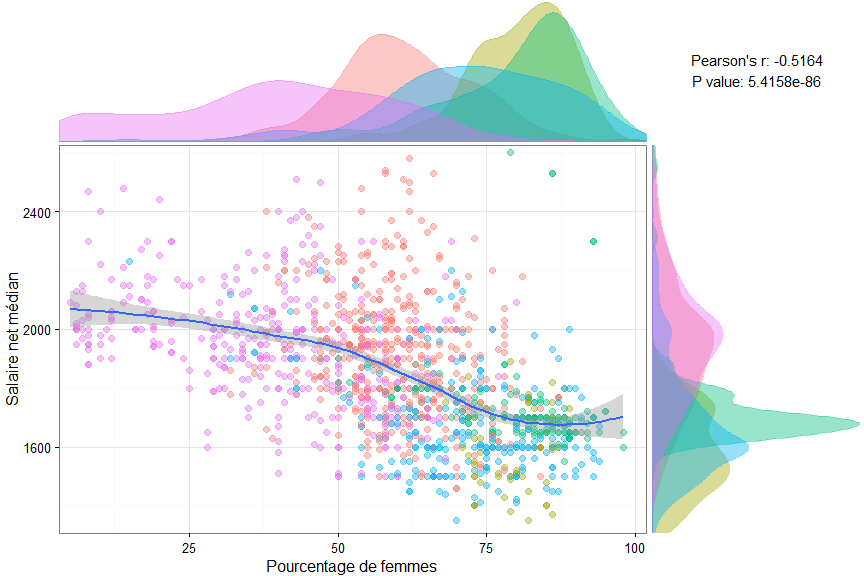

The page's visual inventory and layout, read from the dashboard file:
{"tool":"tableau","page":{"name":"Nuage de points et densité marginale","canvas":[1000,1000],"units":"permille","ordinal":0},"visuals":[{"type":"worksheet","title":"Densité X","mark":"Automatic","box":[0,0,762.9,277.8]},{"type":"blank","box":[762.9,0,157.5,277.8]},{"type":"parameter","param":"[Parameters].[Paramètre 1]","box":[920.3,0,79.7,57]},{"type":"parameter","param":"[Parameters].[Abscisse (copie)]","box":[920.3,57,79.7,53]},{"type":"parameter","param":"[Parameters].[Paramètre 4]","box":[920.3,110,79.7,53]},{"type":"parameter","param":"[Parameters].[Paramètre 2]","box":[920.3,162.9,79.7,53]},{"type":"filter","title":"Nuage de points","param":"[textscan.033rnfa0qr6jju119agoc1gq4wqi].[none:Calculation_673851157567737861:nk]","box":[920.3,215.9,79.7,50.9]},{"type":"parameter","param":"[Parameters].[Paramètre 3]","box":[920.3,266.8,79.7,49.9]},{"type":"worksheet","title":"Nuage de points","mark":"Circle","rows":["Calculation_673851157565718530"],"cols":["Calculation_673851157565521921"],"box":[0,277.8,762.9,722.2]},{"type":"worksheet","title":"Densité Y","mark":"Line","rows":["DensX X (copie)"],"cols":["DensX line (copie)","DensX poly (copie)"],"box":[762.9,277.8,157.5,722.2]},{"type":"legend","title":"Densité X","param":"[textscan.033rnfa0qr6jju119agoc1gq4wqi].[none:Calculation_673851157571534857:nk]","box":[920.3,316.7,79.7,126.3]}]}

Visuals, with their boxes on the dashboard's canvas, which has no fixed pixel size, in thousandths of its width and height (x1, y1, x2, y2). These are canvas units, not pixel positions in the 864x576 screenshot, which may show the page scaled, cropped or inside an application window:
"Densité X" worksheet: region(0, 0, 763, 278)
blank: region(763, 0, 920, 278)
parameter: region(920, 0, 1000, 57)
parameter: region(920, 57, 1000, 110)
parameter: region(920, 110, 1000, 163)
parameter: region(920, 163, 1000, 216)
"Nuage de points" filter: region(920, 216, 1000, 267)
parameter: region(920, 267, 1000, 317)
"Nuage de points" worksheet (Circle marks): region(0, 278, 763, 1000)
"Densité Y" worksheet (Line marks): region(763, 278, 920, 1000)
"Densité X" legend: region(920, 317, 1000, 443)
